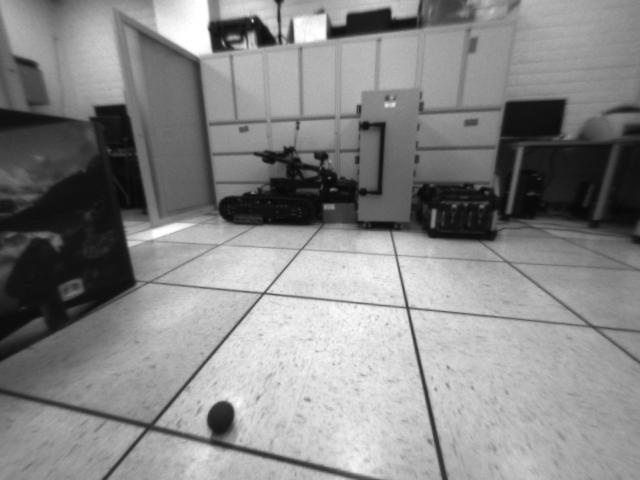dogtoy: (202, 392, 243, 438)
